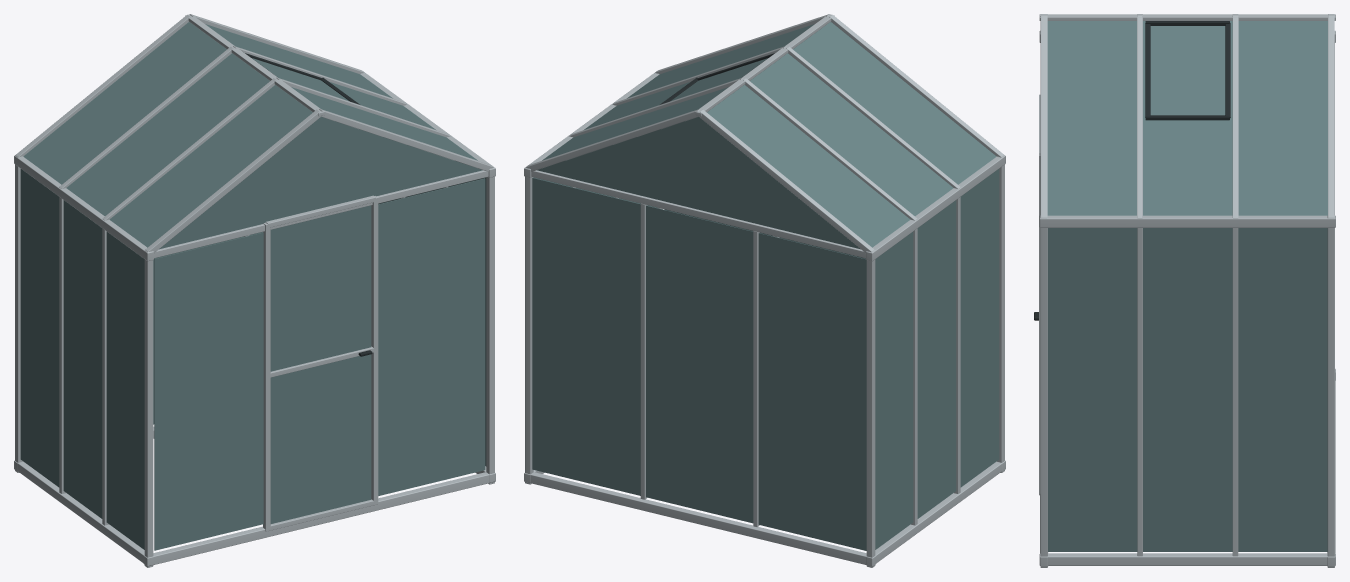
File: compact-greenhouse.glb
3 renders of one model, left to right at view 1: azimuth 30°, elevation 25°; view 2: azimuth 150°, elevation 25°; view 3: azimuth 270°, elevation 25°, orthographic. The views are drawn at different scales.
Parts seen in each view (by area): view 1: catalog_surface_UVMap, catalog_surface_RealismUV; view 2: catalog_surface_UVMap, catalog_surface_RealismUV; view 3: catalog_surface_UVMap, catalog_surface_RealismUV.
Part boxes in pixels (x1=…): catalog_surface_UVMap: x1=20, y1=22, x2=486, y2=550; catalog_surface_RealismUV: x1=14, y1=14, x2=495, y2=567; catalog_surface_UVMap: x1=532, y1=22, x2=999, y2=550; catalog_surface_RealismUV: x1=524, y1=14, x2=1005, y2=567; catalog_surface_UVMap: x1=1034, y1=21, x2=1327, y2=551; catalog_surface_RealismUV: x1=1039, y1=14, x2=1335, y2=567.
Size of the model in its own units: 1.85 by 2.1 by 1.25.
